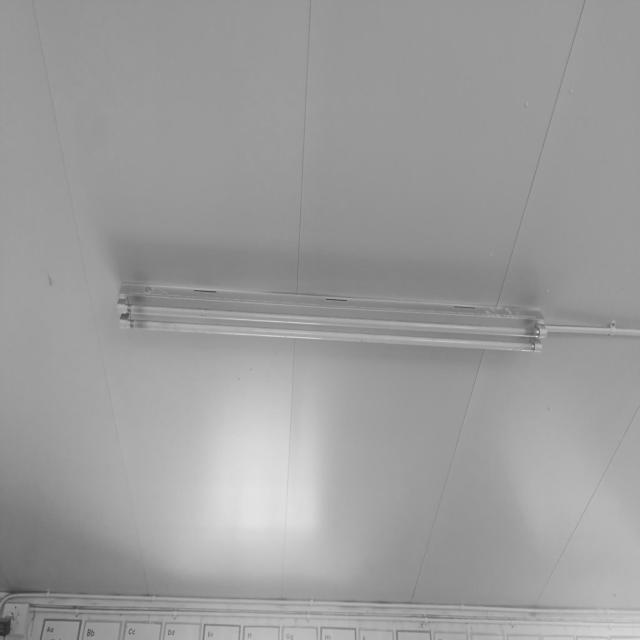light: (116, 281, 547, 353)
